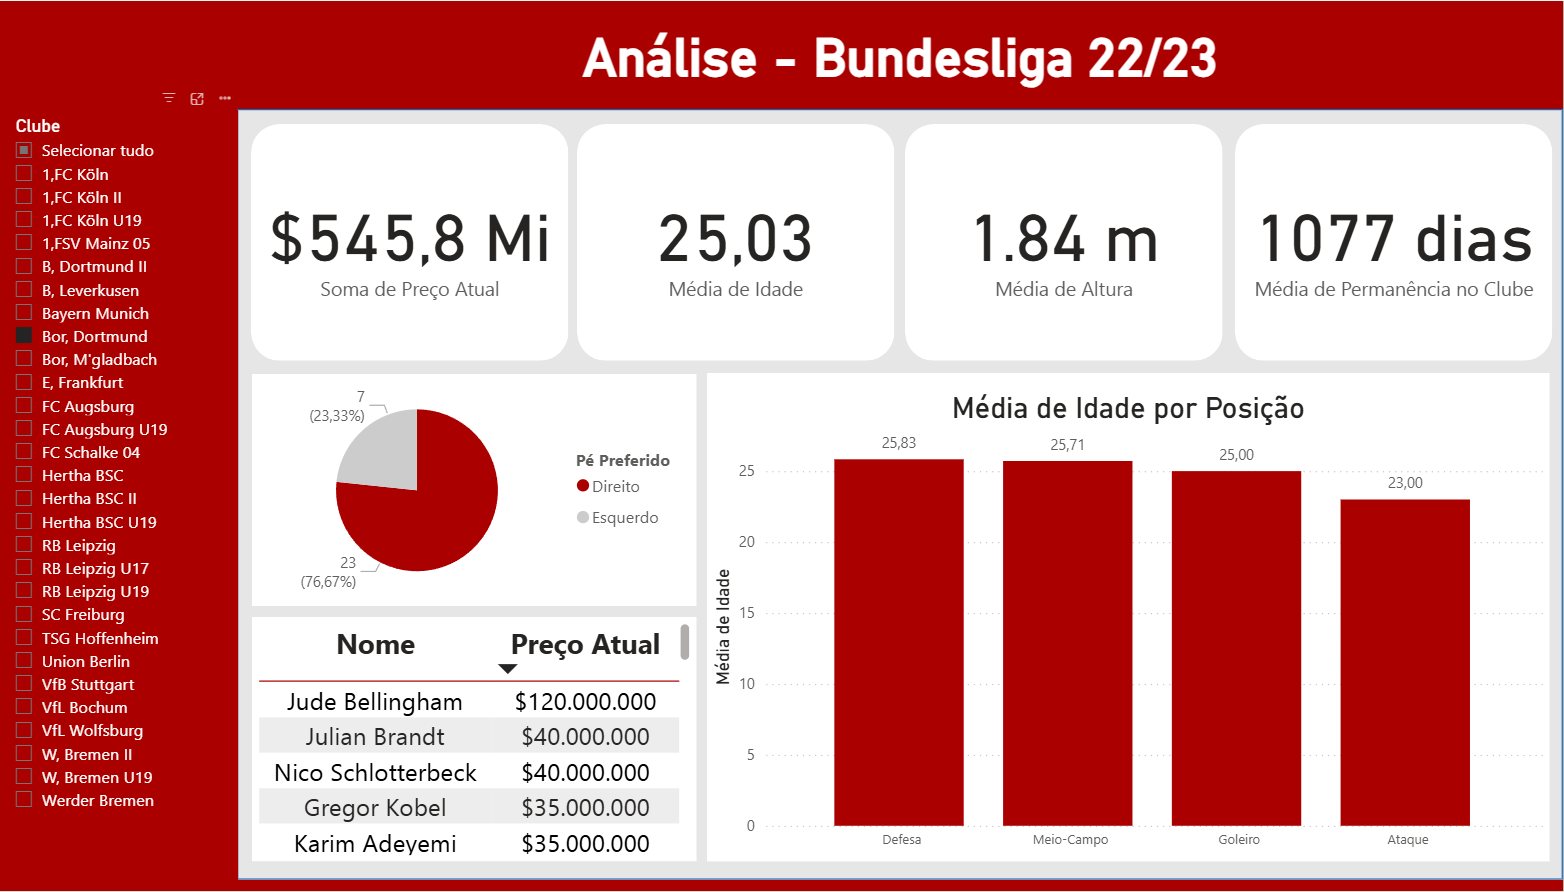

What the dashboard file says about the page in this screenshot:
{"tool":"powerbi","page":{"name":"Página 1","canvas":[1280,720],"ordinal":0},"visuals":[{"type":"textbox","box":[194.7,16.7,1085.3,60.7],"z":1000},{"type":"shape","box":[0,89.1,1280,630.1],"z":2000},{"type":"shape","box":[959.4,99.9,309.5,193.6],"z":3000},{"type":"tableEx","fields":{"Values":["bundesliga_player 2.Nome","Sum(bundesliga_player 2.Preço Atual)"]},"box":[11.7,504.1,364,200.6],"z":4000},{"type":"shape","box":[11.1,99.9,309.5,193.6],"z":5000},{"type":"card","fields":{"Values":["Sum(bundesliga_player 2.Preço Atual)"]},"box":[11.1,133.2,309.5,129.5],"z":6000},{"type":"clusteredColumnChart","title":"_","fields":{"Category":["bundesliga_player 2.Posição"],"Y":["Avg(bundesliga_player 2.Idade)"]},"box":[383.2,304.6,885.2,400.1],"z":7000},{"type":"pieChart","fields":{"Category":["bundesliga_player 2.Pé Preferido"],"Y":["CountNonNull(bundesliga_player 2.Pé Preferido)"]},"box":[11.7,304.6,364,190],"z":8000},{"type":"card","fields":{"Values":["bundesliga_player.Média de Permanência no Clube","select","select1"]},"box":[959.4,131.9,309.5,129.5],"z":9000},{"type":"textbox","box":[578.8,314.4,690,42.9],"z":10000},{"type":"shape","box":[326.8,99.9,309.5,193.6],"z":11000},{"type":"card","fields":{"Values":["bundesliga_player.Média de Idade (com texto)"]},"box":[326.8,131.9,309.5,129.5],"z":12000},{"type":"pageNavigator","box":[1141.2,21.4,120.4,50],"z":13000},{"type":"actionButton","box":[126.8,8.5,64,71.2],"z":14000},{"type":"shape","box":[642.5,99.9,309.5,193.6],"z":15000},{"type":"card","fields":{"Values":["bundesliga_player.Média de Altura (m)"]},"box":[642.5,131.9,309.5,129.5],"z":16000},{"type":"image","box":[19.3,7.2,114.7,77.3],"z":17000},{"type":"actionButton","box":[19.3,8.5,58,68.8],"z":18000},{"type":"actionButton","box":[76.1,8.5,58,68.8],"z":19000},{"type":"slicer","fields":{"Values":["bundesliga_player 2.Clube"]},"box":[189.6,8.5,224.6,68.8],"z":19500}]}

Visuals, with their boxes on the page's 1280x720 design canvas (x1, y1, x2, y2). These are canvas units, not pixel positions in the 1564x892 screenshot, which may show the page scaled, cropped or inside an application window:
textbox: [195, 17, 1280, 77]
shape: [0, 89, 1280, 719]
shape: [959, 100, 1269, 294]
tableEx - bundesliga_player 2.Nome x Sum(bundesliga_player 2.Preço Atual): [12, 504, 376, 705]
shape: [11, 100, 321, 294]
card - Sum(bundesliga_player 2.Preço Atual): [11, 133, 321, 263]
"_" clusteredColumnChart: [383, 305, 1268, 705]
pieChart - bundesliga_player 2.Pé Preferido x CountNonNull(bundesliga_player 2.Pé Preferido): [12, 305, 376, 495]
card - bundesliga_player.Média de Permanência no Clube x select: [959, 132, 1269, 261]
textbox: [579, 314, 1269, 357]
shape: [327, 100, 636, 294]
card - bundesliga_player.Média de Idade (com texto): [327, 132, 636, 261]
pageNavigator: [1141, 21, 1262, 71]
actionButton: [127, 8, 191, 80]
shape: [642, 100, 952, 294]
card - bundesliga_player.Média de Altura (m): [642, 132, 952, 261]
image: [19, 7, 134, 84]
actionButton: [19, 8, 77, 77]
actionButton: [76, 8, 134, 77]
slicer - bundesliga_player 2.Clube: [190, 8, 414, 77]
